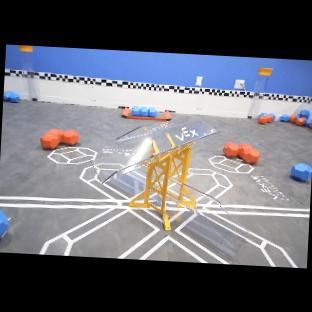V5_BLUE: (290, 162, 312, 182), (130, 105, 161, 117), (0, 210, 8, 239), (3, 90, 20, 103), (279, 114, 290, 123), (299, 109, 309, 117), (304, 118, 309, 127), (259, 112, 268, 116), (269, 113, 275, 119)
V5_RED: (219, 139, 270, 166), (39, 126, 79, 152), (257, 116, 267, 124), (295, 117, 304, 125), (265, 116, 272, 123), (290, 115, 295, 123), (309, 120, 312, 129)
